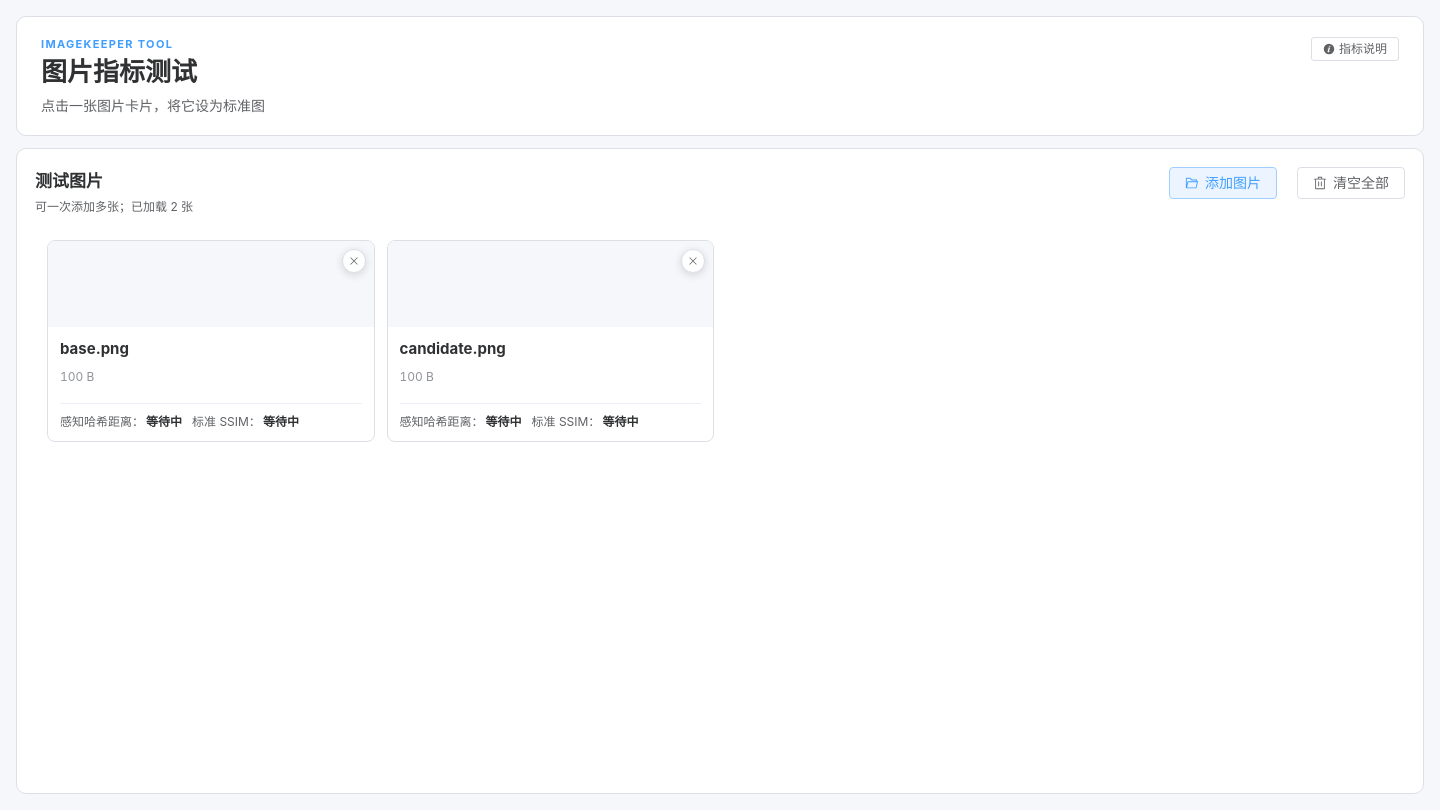
Test: ImageMetricsTestView › offers a retry action when ssim calculation fails
Click the button with test id "card-0".
click(211, 284)  # box [47, 240, 374, 442]
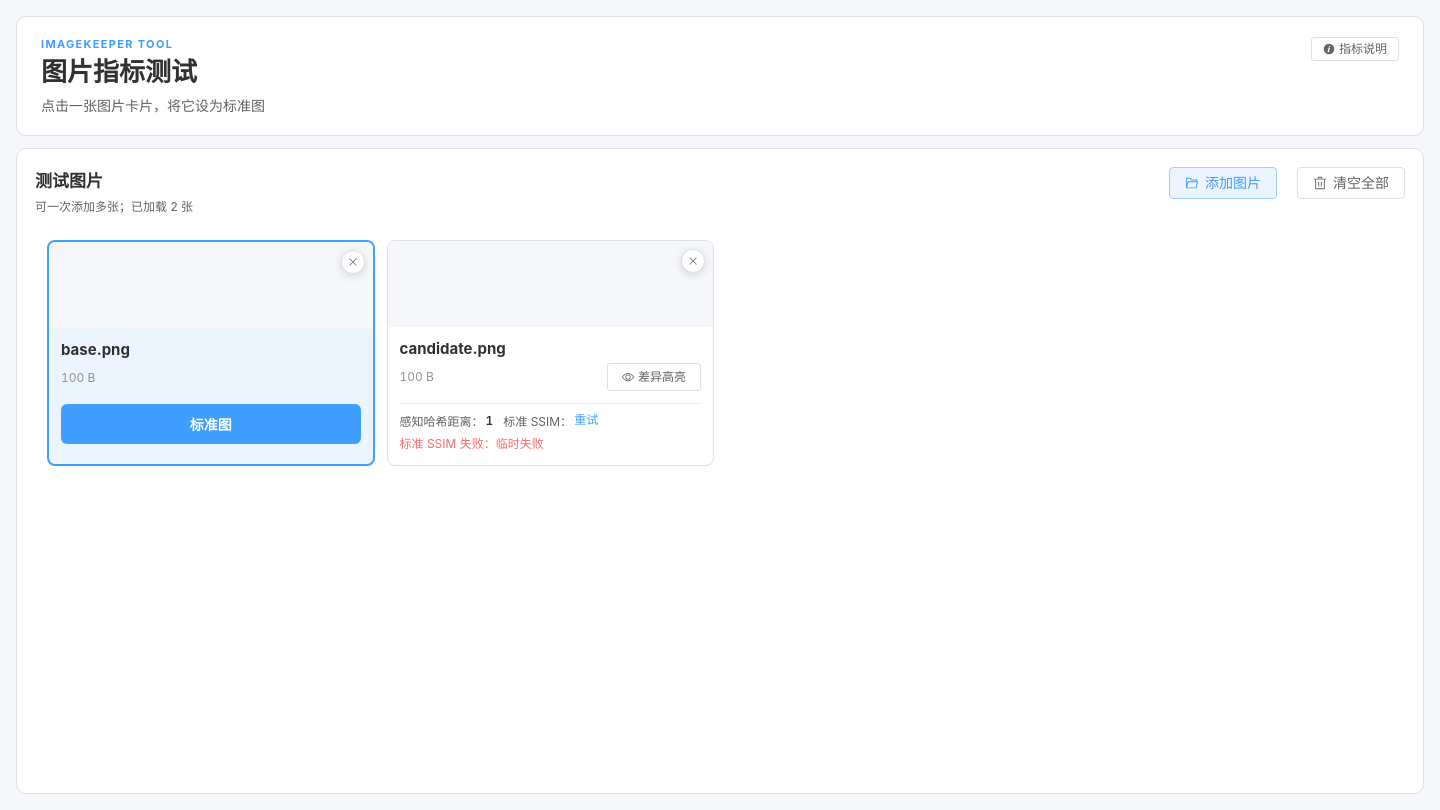
Expected: the button with test id "ssim-1" is shown
Click the button with test id "ssim-1".
click(586, 420)  # box [574, 414, 598, 426]
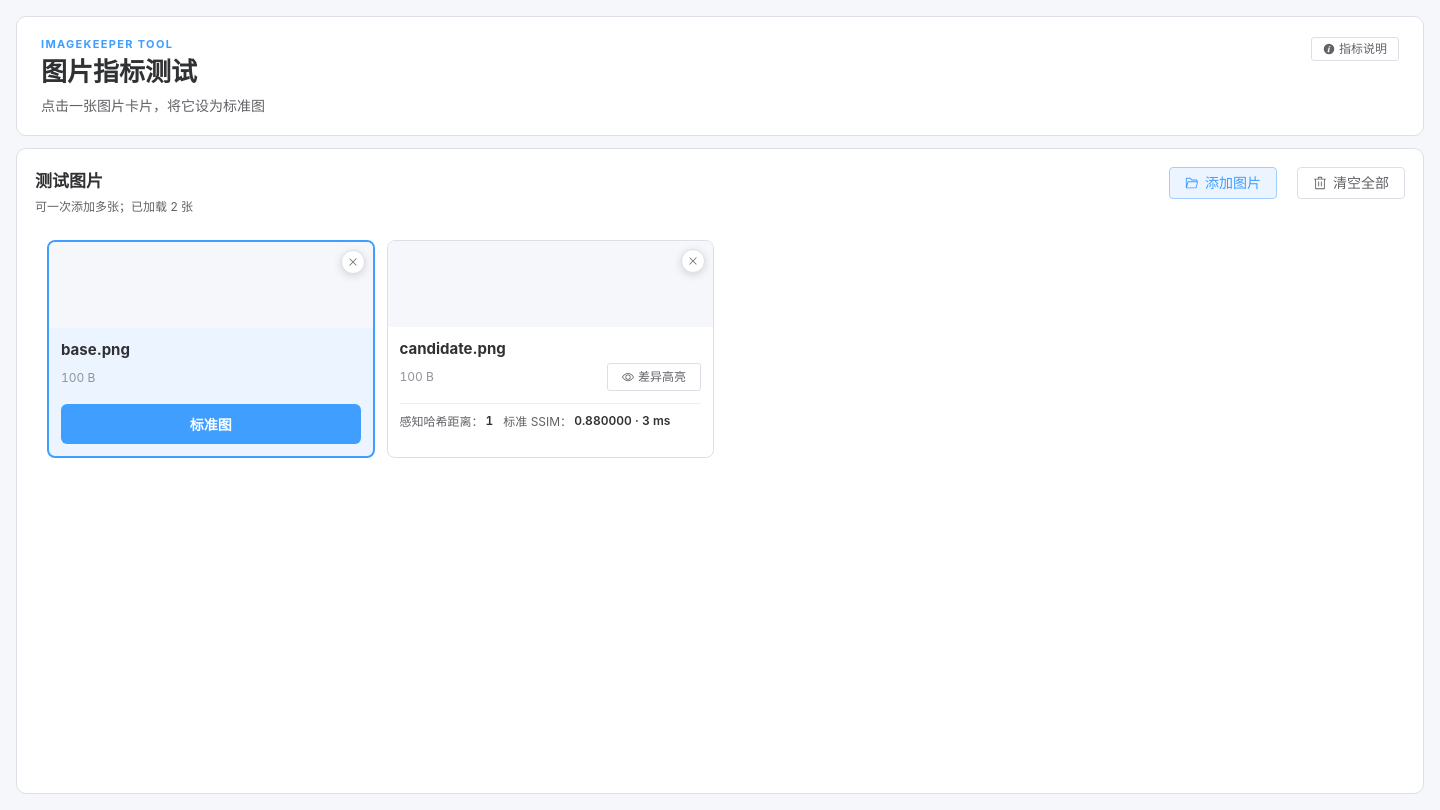
Expected: the text "0.880000" is shown, [574, 413, 670, 428]
